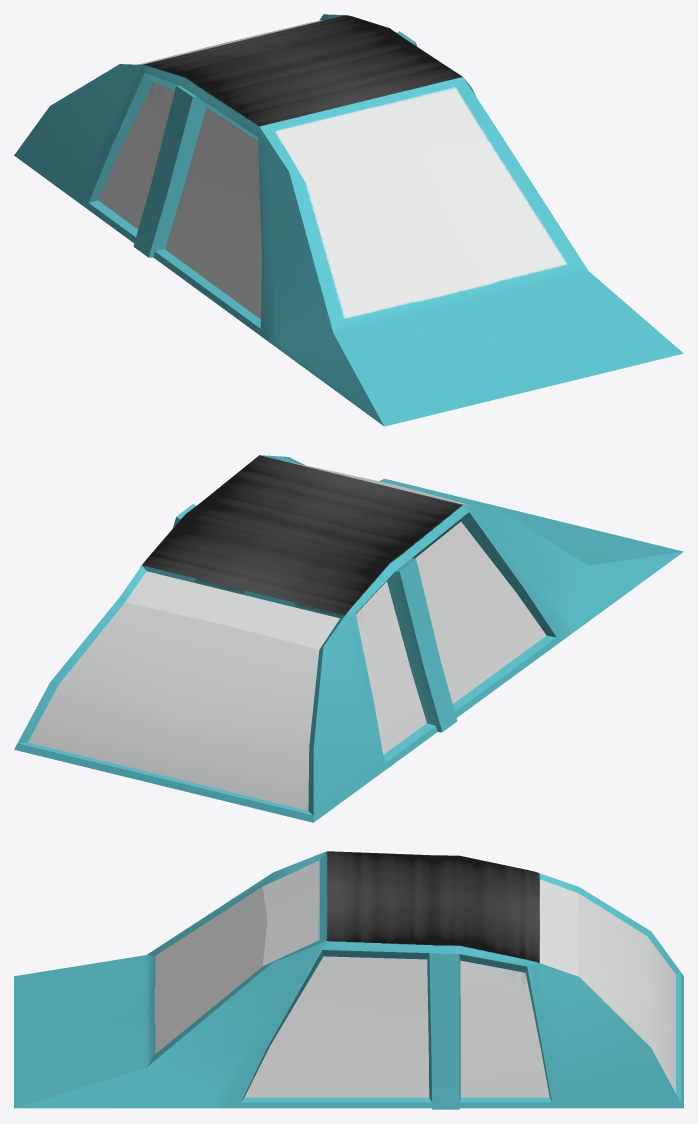
Rendered from EV_TOP.glb.
The picture shows the model from 3 angles, top to bottom: view 1: azimuth 30°, elevation 25°; view 2: azimuth 150°, elevation 25°; view 3: azimuth 270°, elevation 25°; orthographic projection. The views are drawn at different scales.
Bounding box in the file's own units: 1.55 × 0.774 × 3.21.
Materials: 1 (1 with a texture image).
